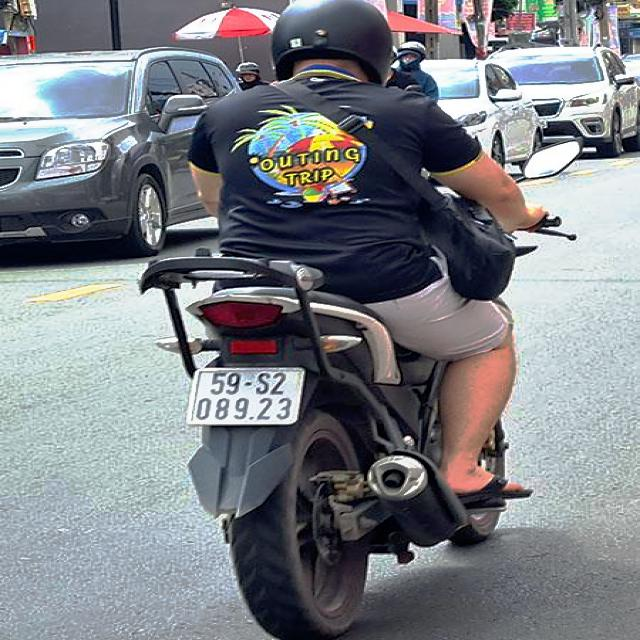license_plate: (189, 371, 307, 428)
